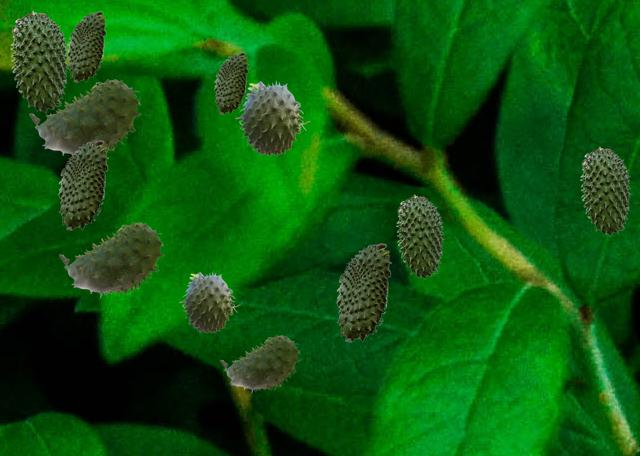guyabano: (29, 79, 140, 156), (59, 222, 163, 297), (10, 10, 68, 112), (235, 80, 309, 155), (336, 243, 390, 341), (220, 335, 299, 392), (580, 146, 630, 235), (58, 140, 107, 229), (396, 194, 443, 278), (179, 271, 239, 332), (67, 11, 105, 81), (214, 52, 247, 113)
